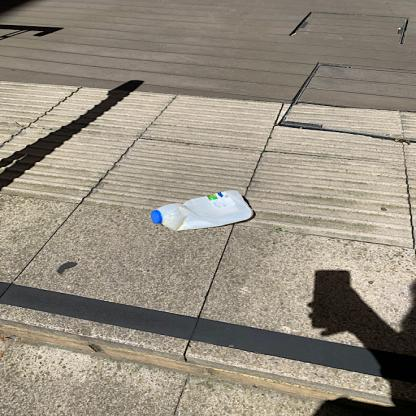trash: (148, 190, 260, 232)
